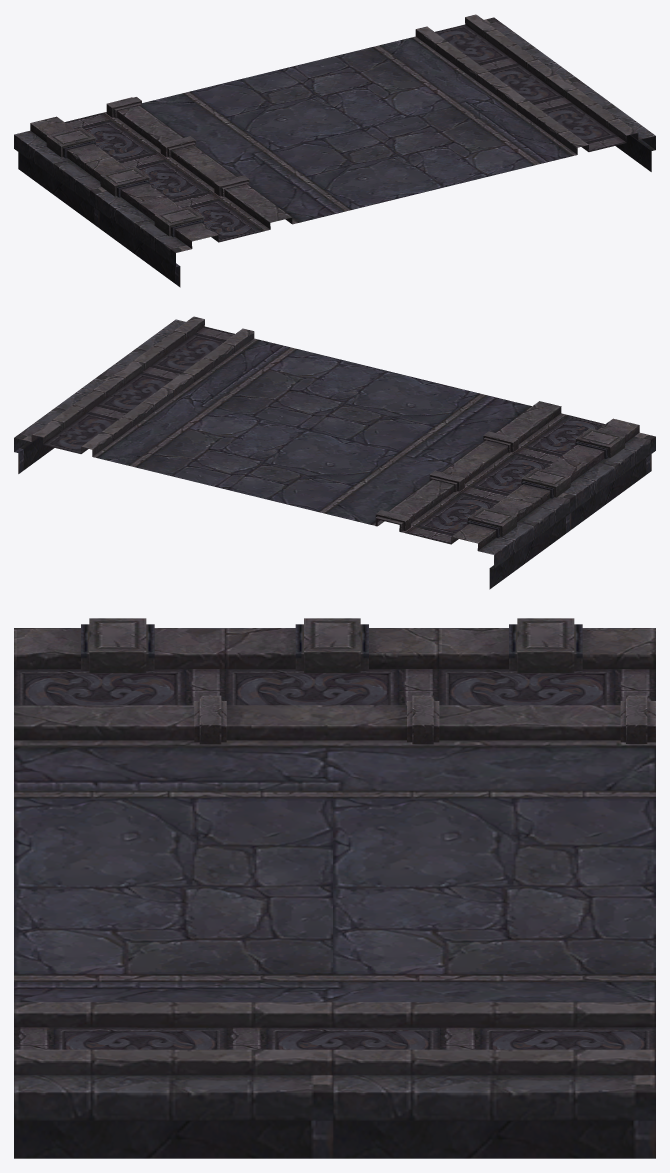
File: 2_BTT_HuanXingDiBiao_03_04.FBX
The picture shows the model from 3 angles, top to bottom: view 1: azimuth 30°, elevation 25°; view 2: azimuth 150°, elevation 25°; view 3: azimuth 270°, elevation 25°; orthographic projection. The views are drawn at different scales.
Visible parts, largest first — view 1: 2_BTT_HuanXingDiBiao_03_04; view 2: 2_BTT_HuanXingDiBiao_03_04; view 3: 2_BTT_HuanXingDiBiao_03_04.
Boxes of the visible parts, bbox=[...] form: 2_BTT_HuanXingDiBiao_03_04: bbox=[14, 14, 655, 287]; 2_BTT_HuanXingDiBiao_03_04: bbox=[14, 316, 655, 589]; 2_BTT_HuanXingDiBiao_03_04: bbox=[14, 618, 655, 1158].
Bounding box in the file's own units: 1559 × 144 × 910.
